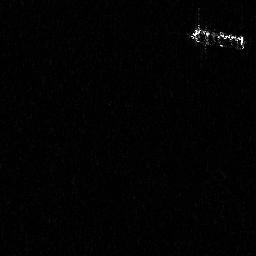ship: (189, 23, 247, 52)
